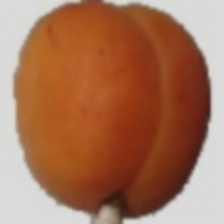apricot: (49, 46, 212, 209)
